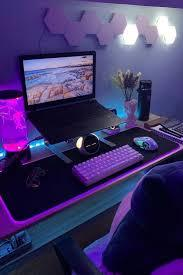keyboard: (71, 143, 144, 187)
